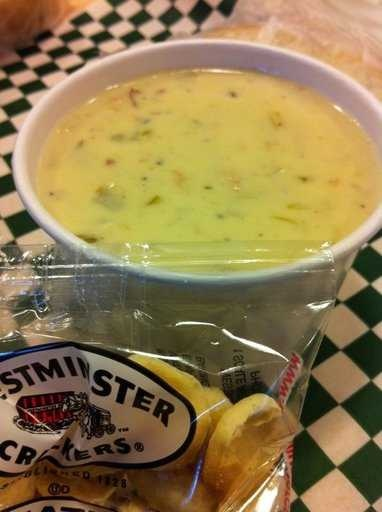soup: (30, 55, 372, 270)
